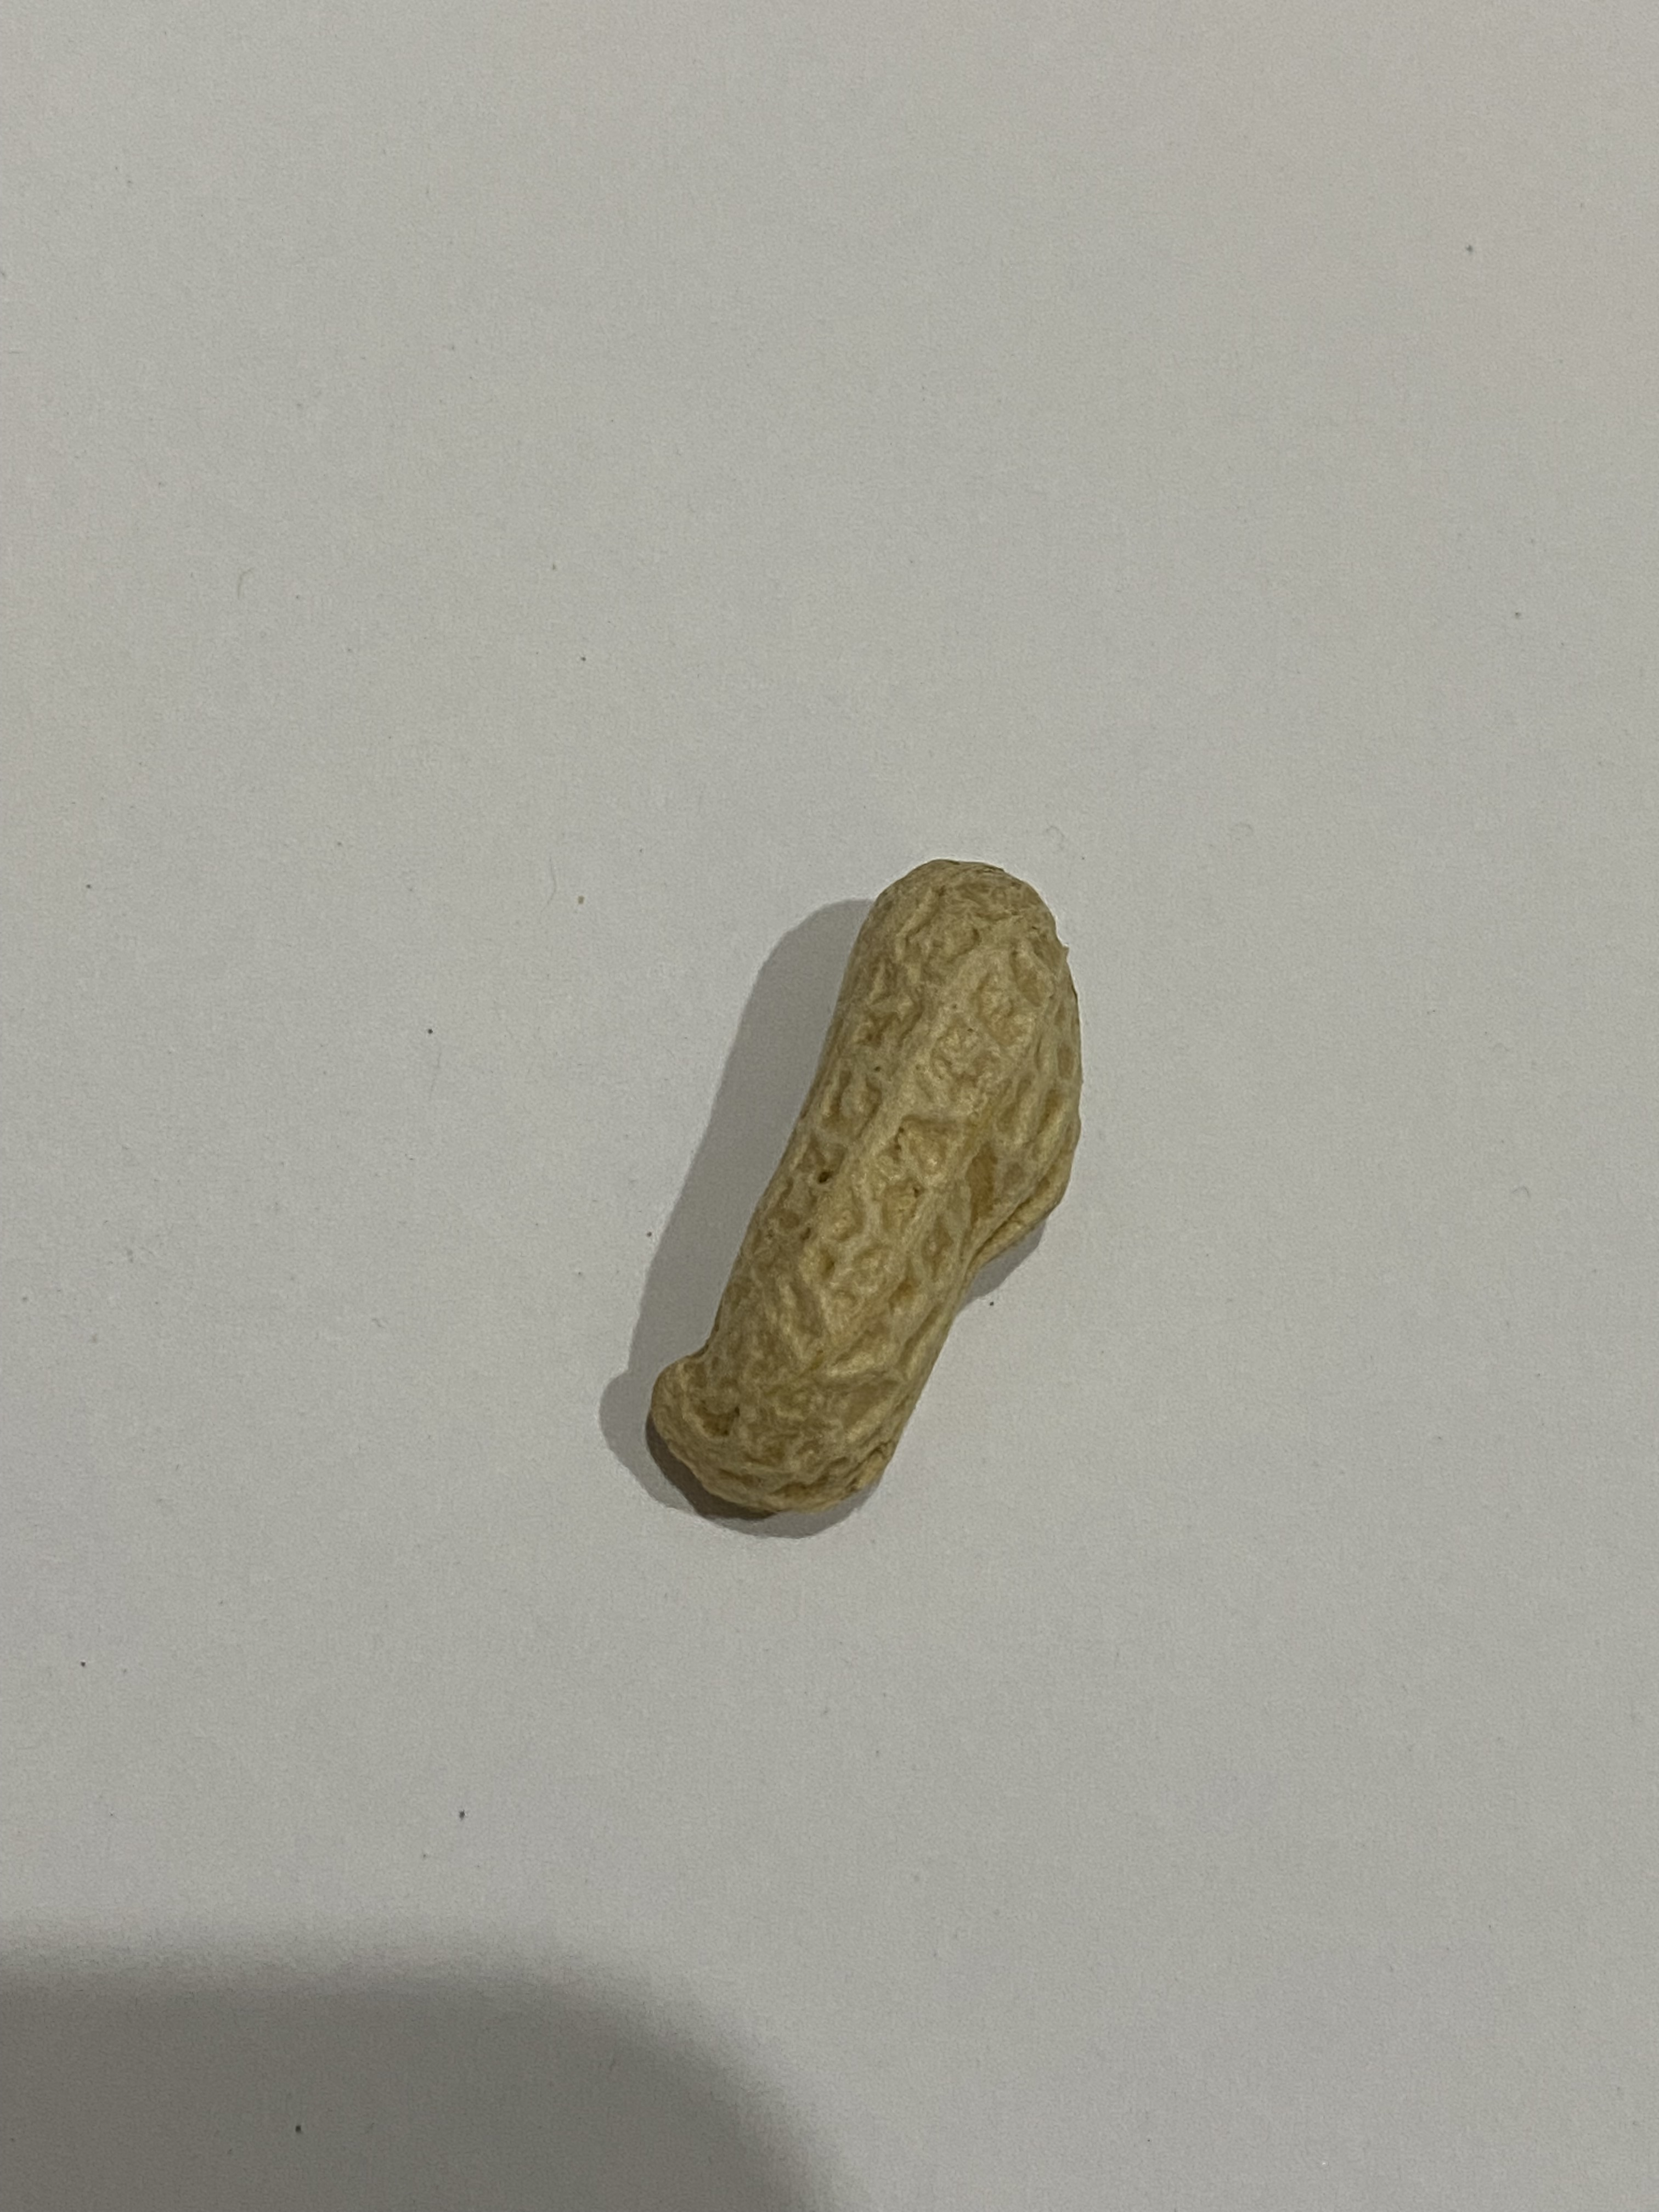kacang3: (556, 848, 1136, 1531)
